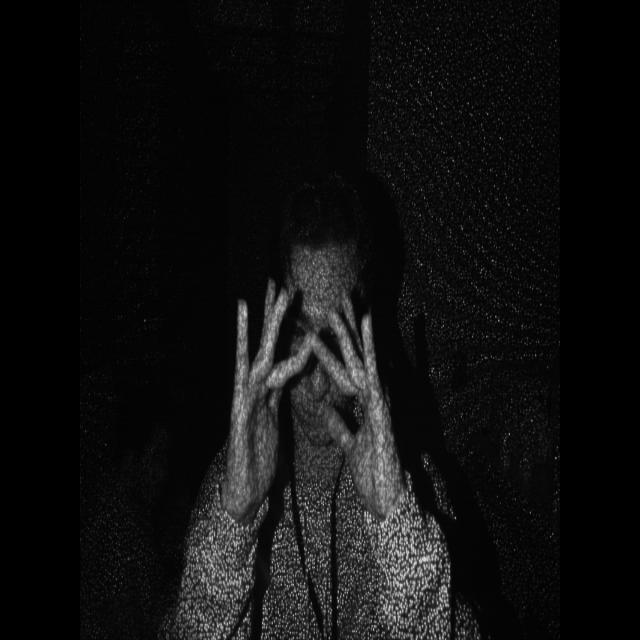REACH: (229, 270, 398, 487)
